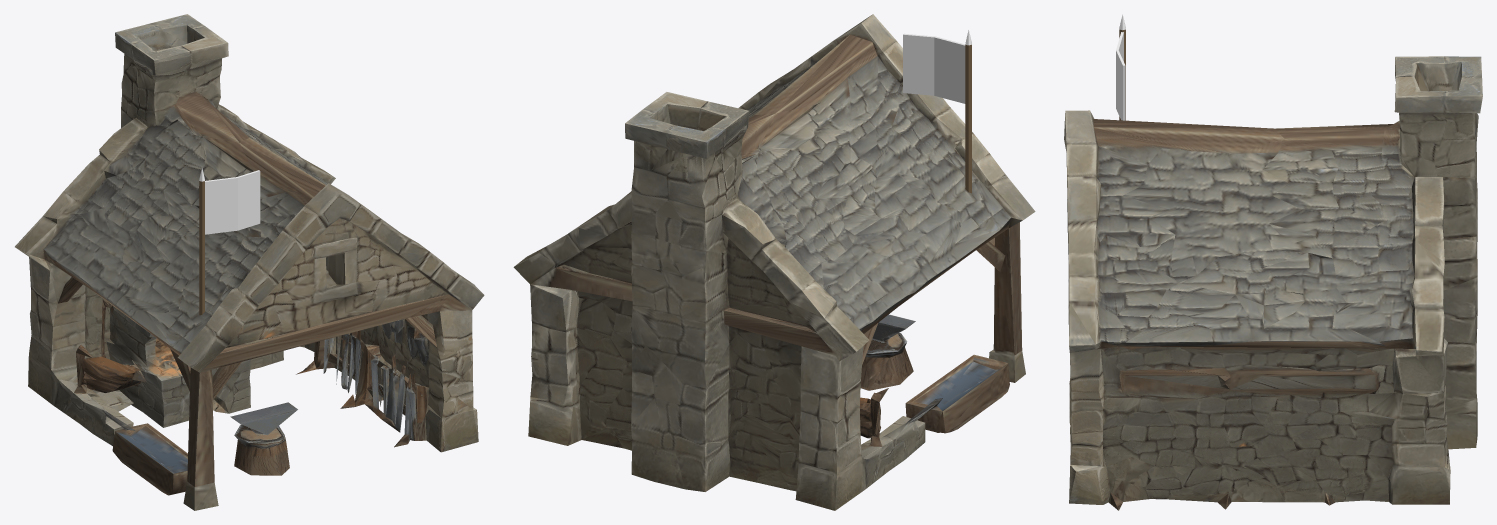
The picture shows the model from 3 angles, left to right: view 1: azimuth 30°, elevation 25°; view 2: azimuth 150°, elevation 25°; view 3: azimuth 270°, elevation 25°; orthographic projection. The views are drawn at different scales.
Visible parts, largest first — view 1: forge, Team_banner; view 2: forge, Team_banner; view 3: forge, Team_banner.
Part boxes in pixels (x1=…): forge: x1=15, y1=14, x2=484, y2=510; Team_banner: x1=199, y1=167, x2=260, y2=315; forge: x1=513, y1=14, x2=1035, y2=510; Team_banner: x1=903, y1=30, x2=971, y2=193; forge: x1=1064, y1=56, x2=1482, y2=510; Team_banner: x1=1116, y1=14, x2=1125, y2=120.
Size of the model in its own units: 1.79 by 1.78 by 1.89.
Materials: 3 (1 with a texture image).
